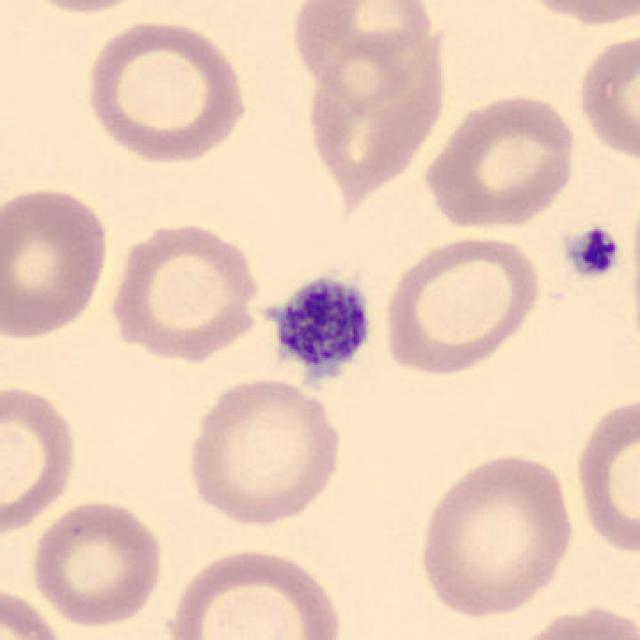Platelets: (261, 270, 377, 388), (560, 224, 624, 282)
RBC: (412, 448, 578, 622), (80, 14, 252, 166), (182, 374, 348, 529), (378, 231, 546, 379), (105, 215, 265, 365), (419, 88, 582, 233), (301, 42, 446, 201), (27, 496, 167, 630), (0, 182, 114, 342), (165, 543, 348, 640), (284, 0, 441, 108), (0, 379, 82, 541), (570, 389, 640, 560), (572, 26, 638, 166), (503, 601, 638, 640), (0, 582, 69, 640), (508, 0, 638, 28), (5, 0, 160, 16)
